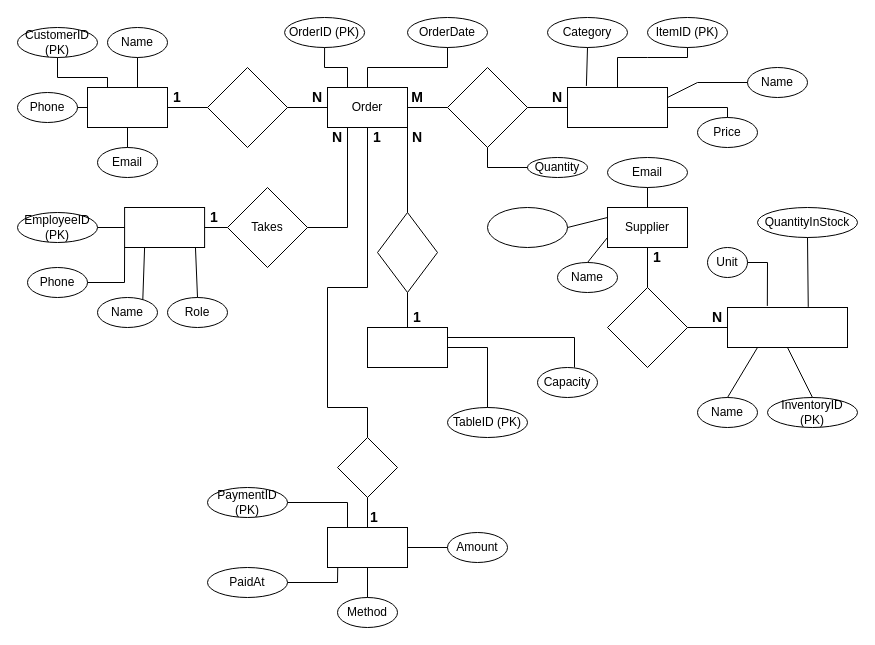
Some shapes in this 875 by 645 pixel diagram are drawn without their labels. The centre of each missing label's shape, as x and y in pixels:
"Customer" belongs at pixel 127 107.
"DineAt" belongs at pixel 407 252.
"Employee" belongs at pixel 164 227.
"Includes" belongs at pixel 487 107.
"InventoryItem" belongs at pixel 787 327.
"MenuItem" belongs at pixel 617 107.
"Paid" belongs at pixel 367 467.
"Payment" belongs at pixel 367 547.
"Places" belongs at pixel 247 107.
"SupplierID (PK)" belongs at pixel 527 227.
"Supplies" belongs at pixel 647 327.
"Table" belongs at pixel 407 347.
